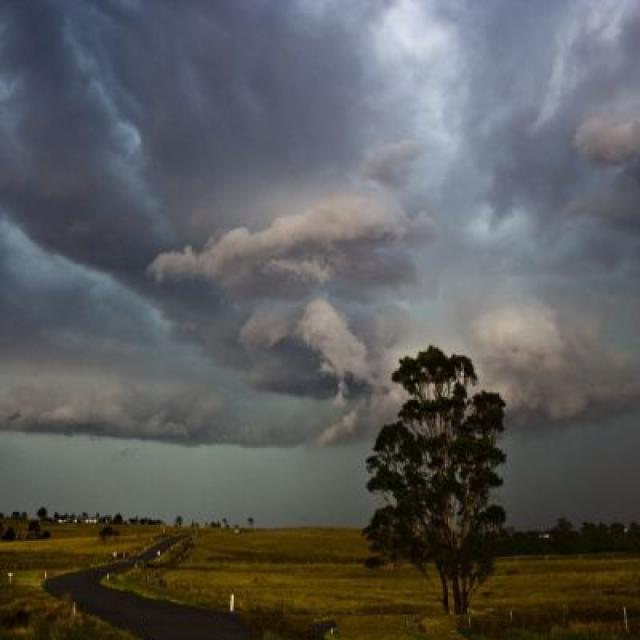Cb: (1, 3, 640, 346)
